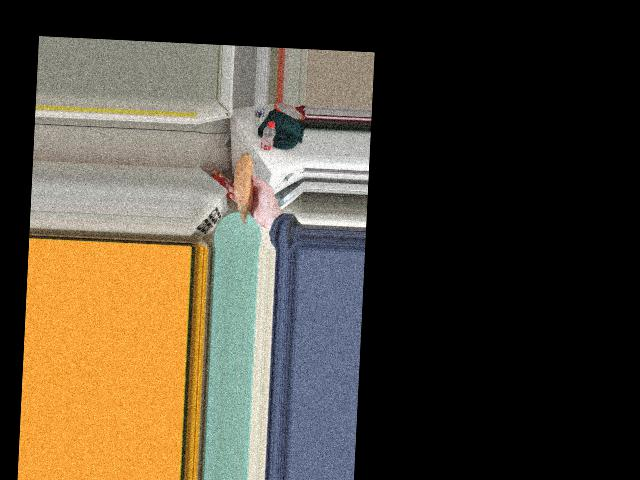sweet_potato: (235, 161, 259, 209)
